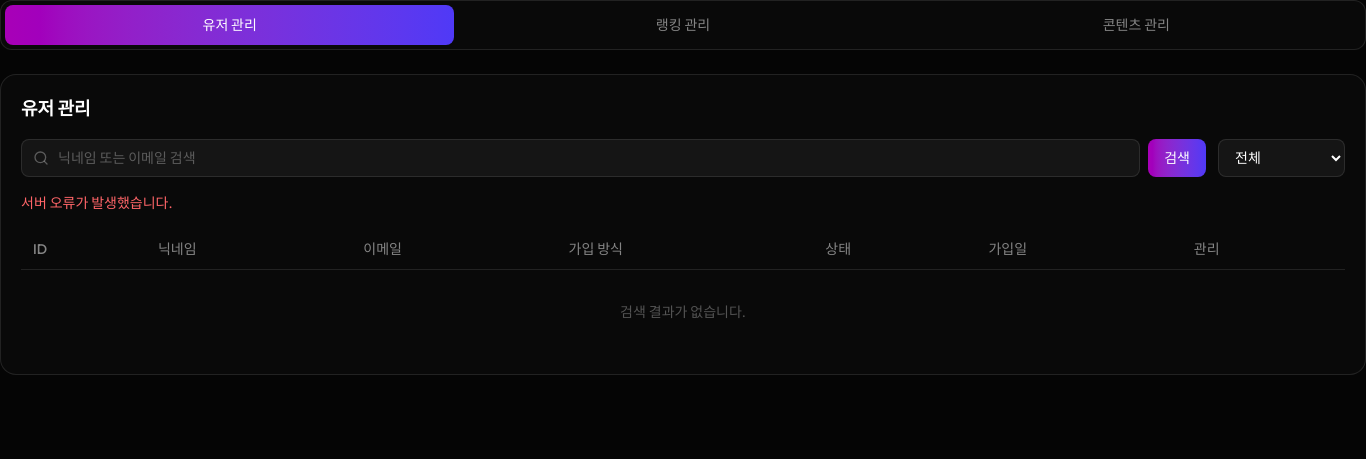
Test: AdminTabs › 콘텐츠 관리 탭 클릭 시 콘텐츠 관리 컴포넌트를 렌더링해야 한다
Click the button "콘텐츠 관리" at (1136, 25), box [912,5,1361,45]
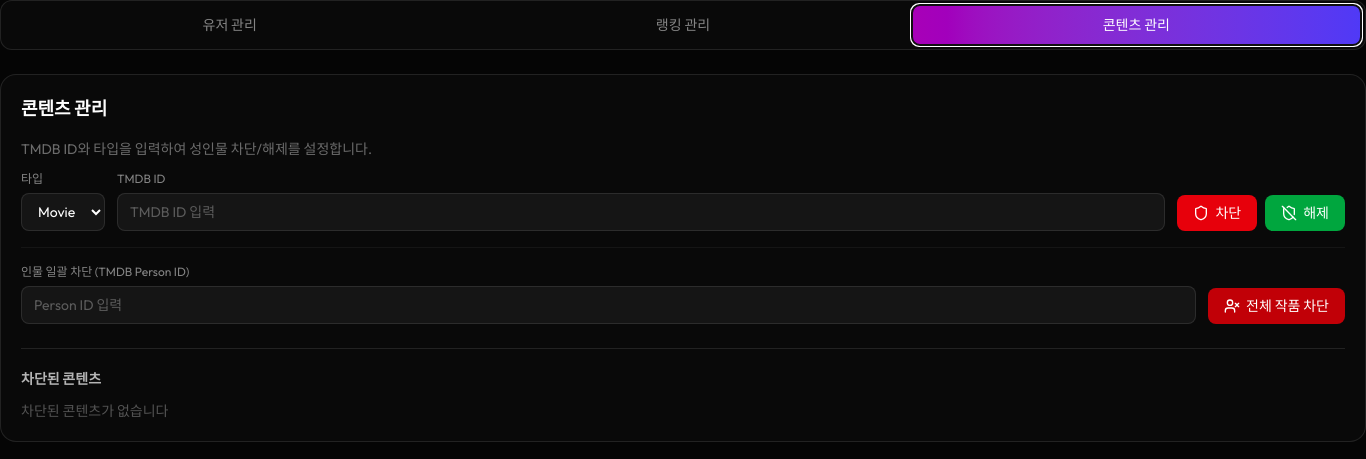
Now the heading "콘텐츠 관리" is shown, box [21,97,107,120]
